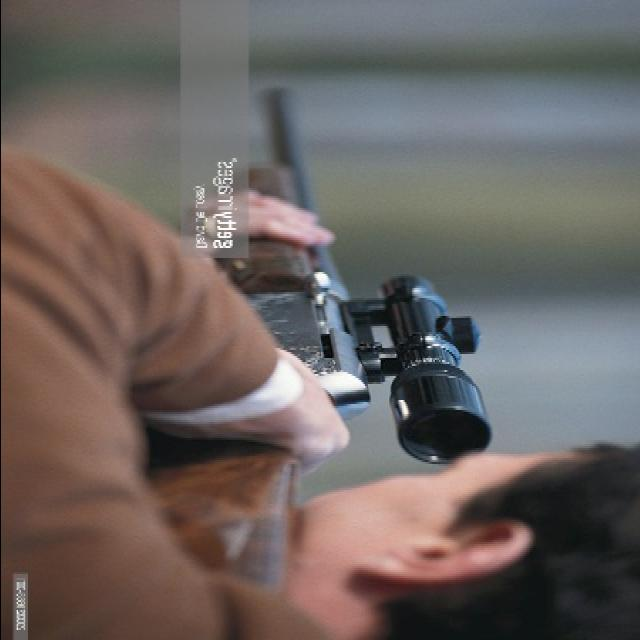rifle: (142, 81, 482, 597)
